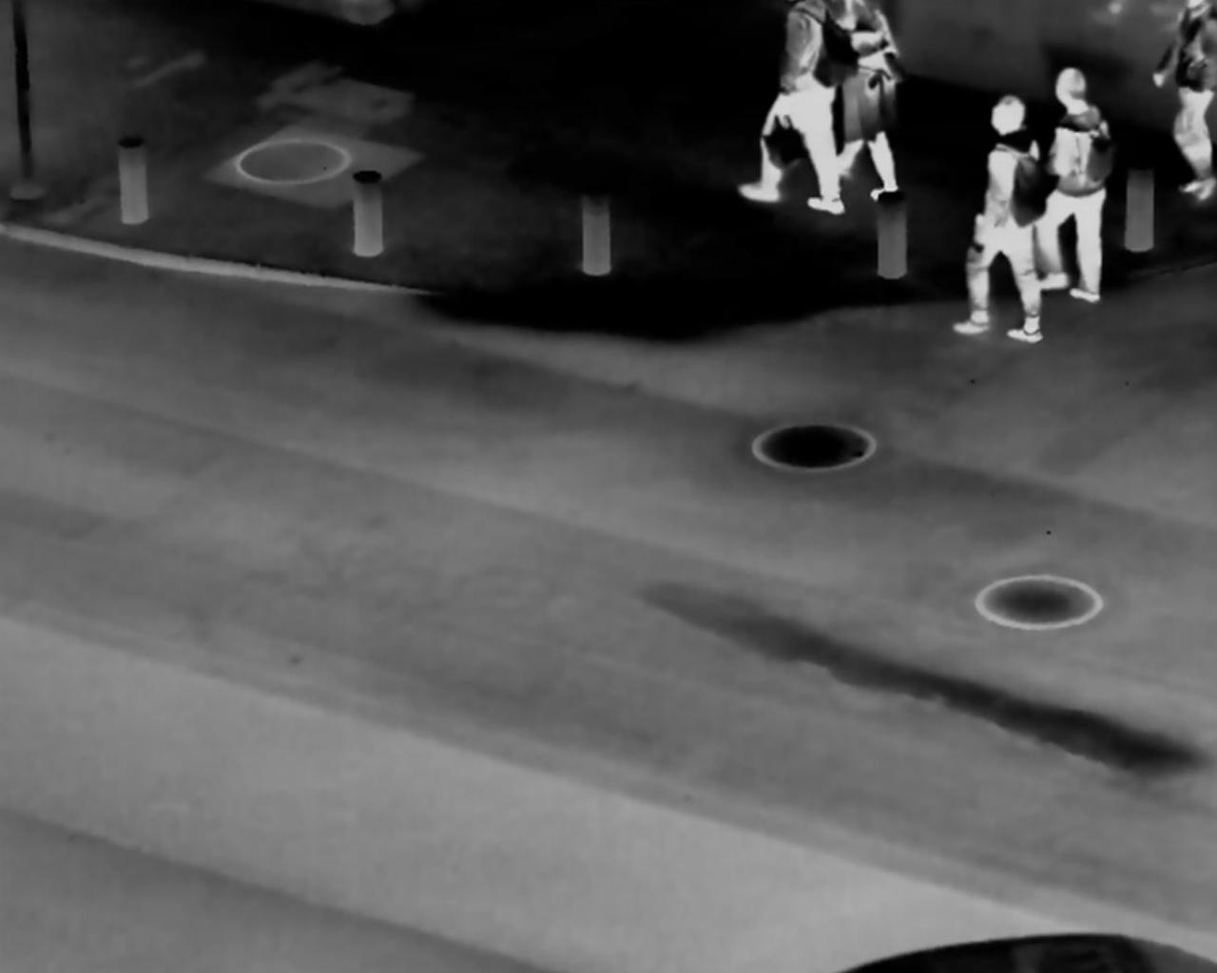person: (742, 4, 863, 220), (1039, 62, 1119, 323), (964, 87, 1039, 350), (830, 3, 908, 207)
